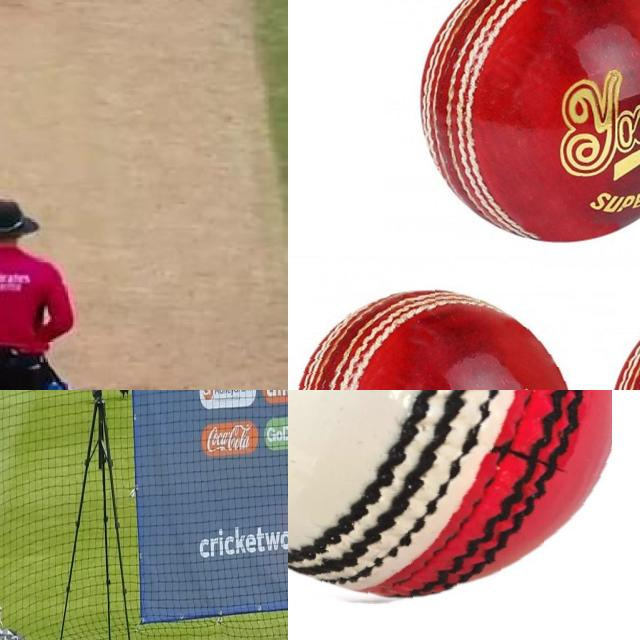Cricket ball: (288, 390, 612, 607), (409, 0, 640, 249), (288, 285, 571, 390)
